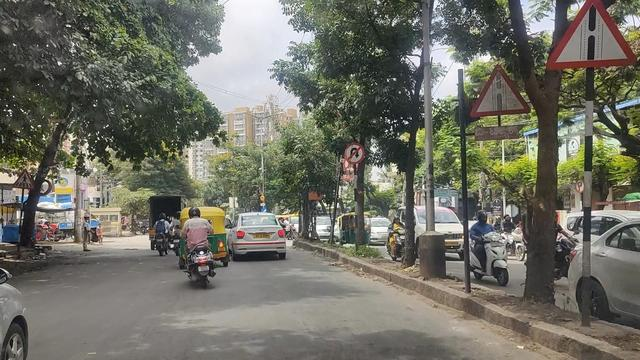LMV: (230, 213, 288, 267), (182, 213, 217, 286)
